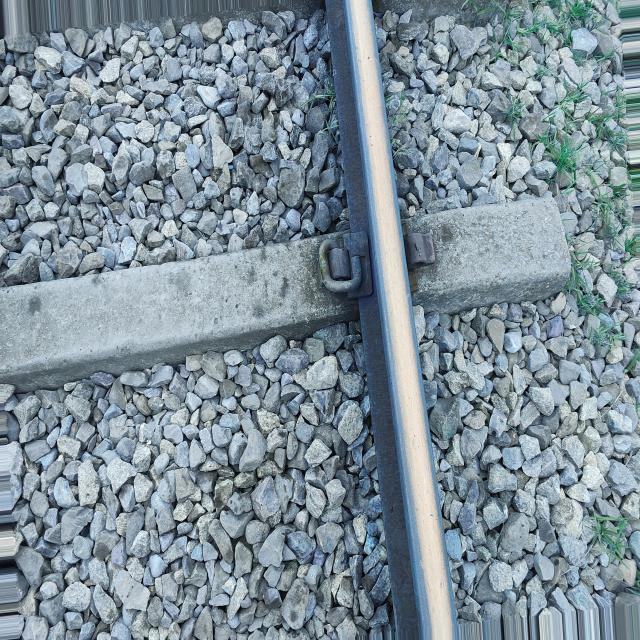Good Fasteners: (319, 239, 362, 292)
Missing Fastener: (402, 228, 438, 280)
